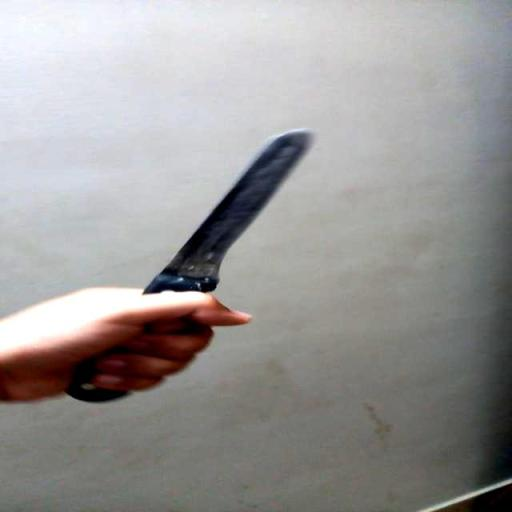knife: (56, 130, 315, 403)
